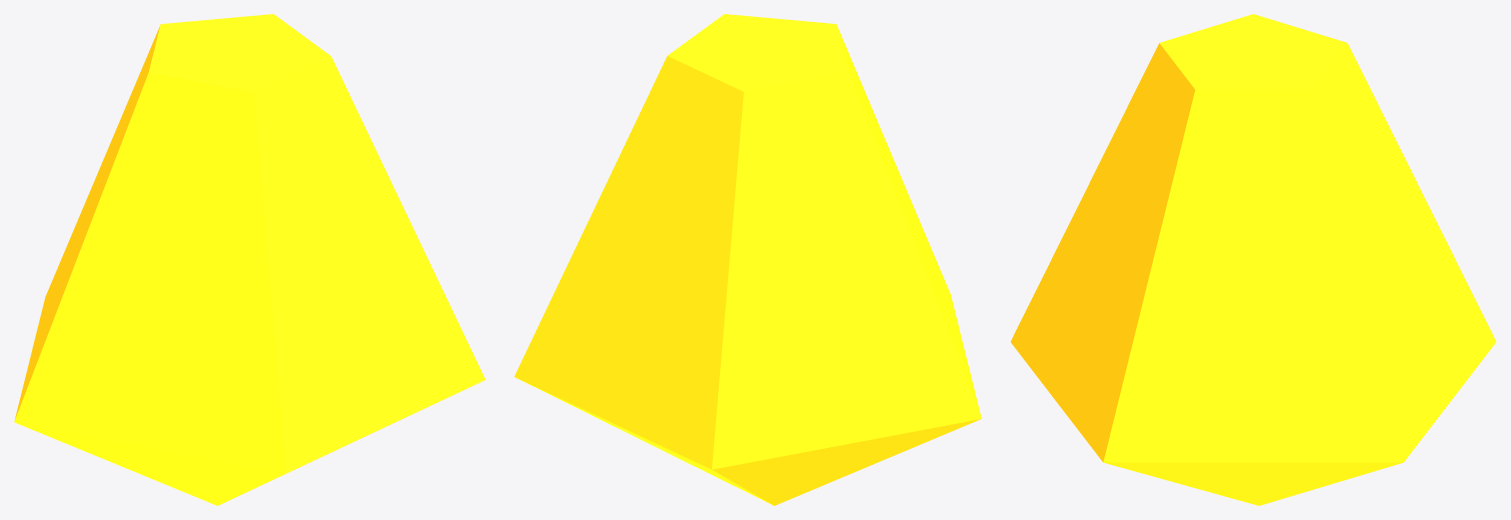
Rendered from SoundEmitter_DragPart.FBX.
The picture shows the model from 3 angles, left to right: view 1: azimuth 30°, elevation 25°; view 2: azimuth 150°, elevation 25°; view 3: azimuth 270°, elevation 25°; orthographic projection.
Visible parts, largest first — view 1: Object014; view 2: Object014; view 3: Object014.
Boxes of the visible parts, <box> form: Object014: <box>14,14,485,505</box>; Object014: <box>514,14,981,505</box>; Object014: <box>1010,14,1496,505</box>.
Bounding box in the file's own units: 6.57 × 7.16 × 6.91.
